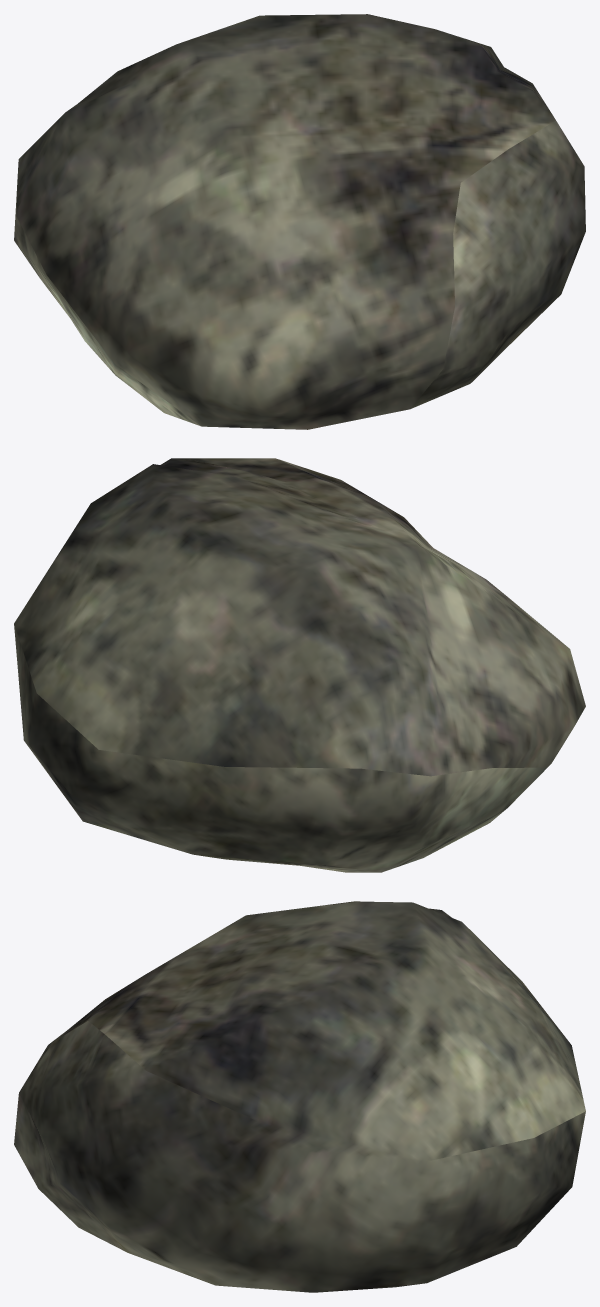
File: Rock.fbx
3 renders of one model, top to bottom at view 1: azimuth 30°, elevation 25°; view 2: azimuth 150°, elevation 25°; view 3: azimuth 270°, elevation 25°, orthographic. The views are drawn at different scales.
Parts seen in each view (by area): view 1: Rock; view 2: Rock; view 3: Rock.
Part boxes in pixels (bbox=[...]): Rock: bbox=[14, 14, 585, 429]; Rock: bbox=[14, 458, 585, 872]; Rock: bbox=[14, 901, 585, 1292].
Size of the model in its own units: 574 by 390 by 611.
